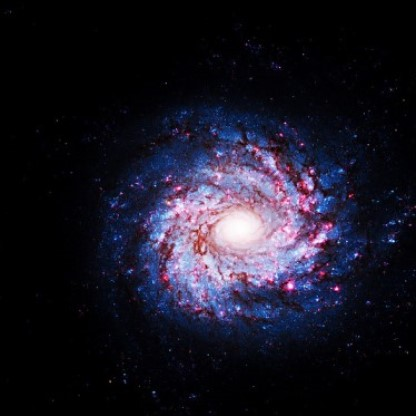NGC 3982: (95, 100, 380, 341)
